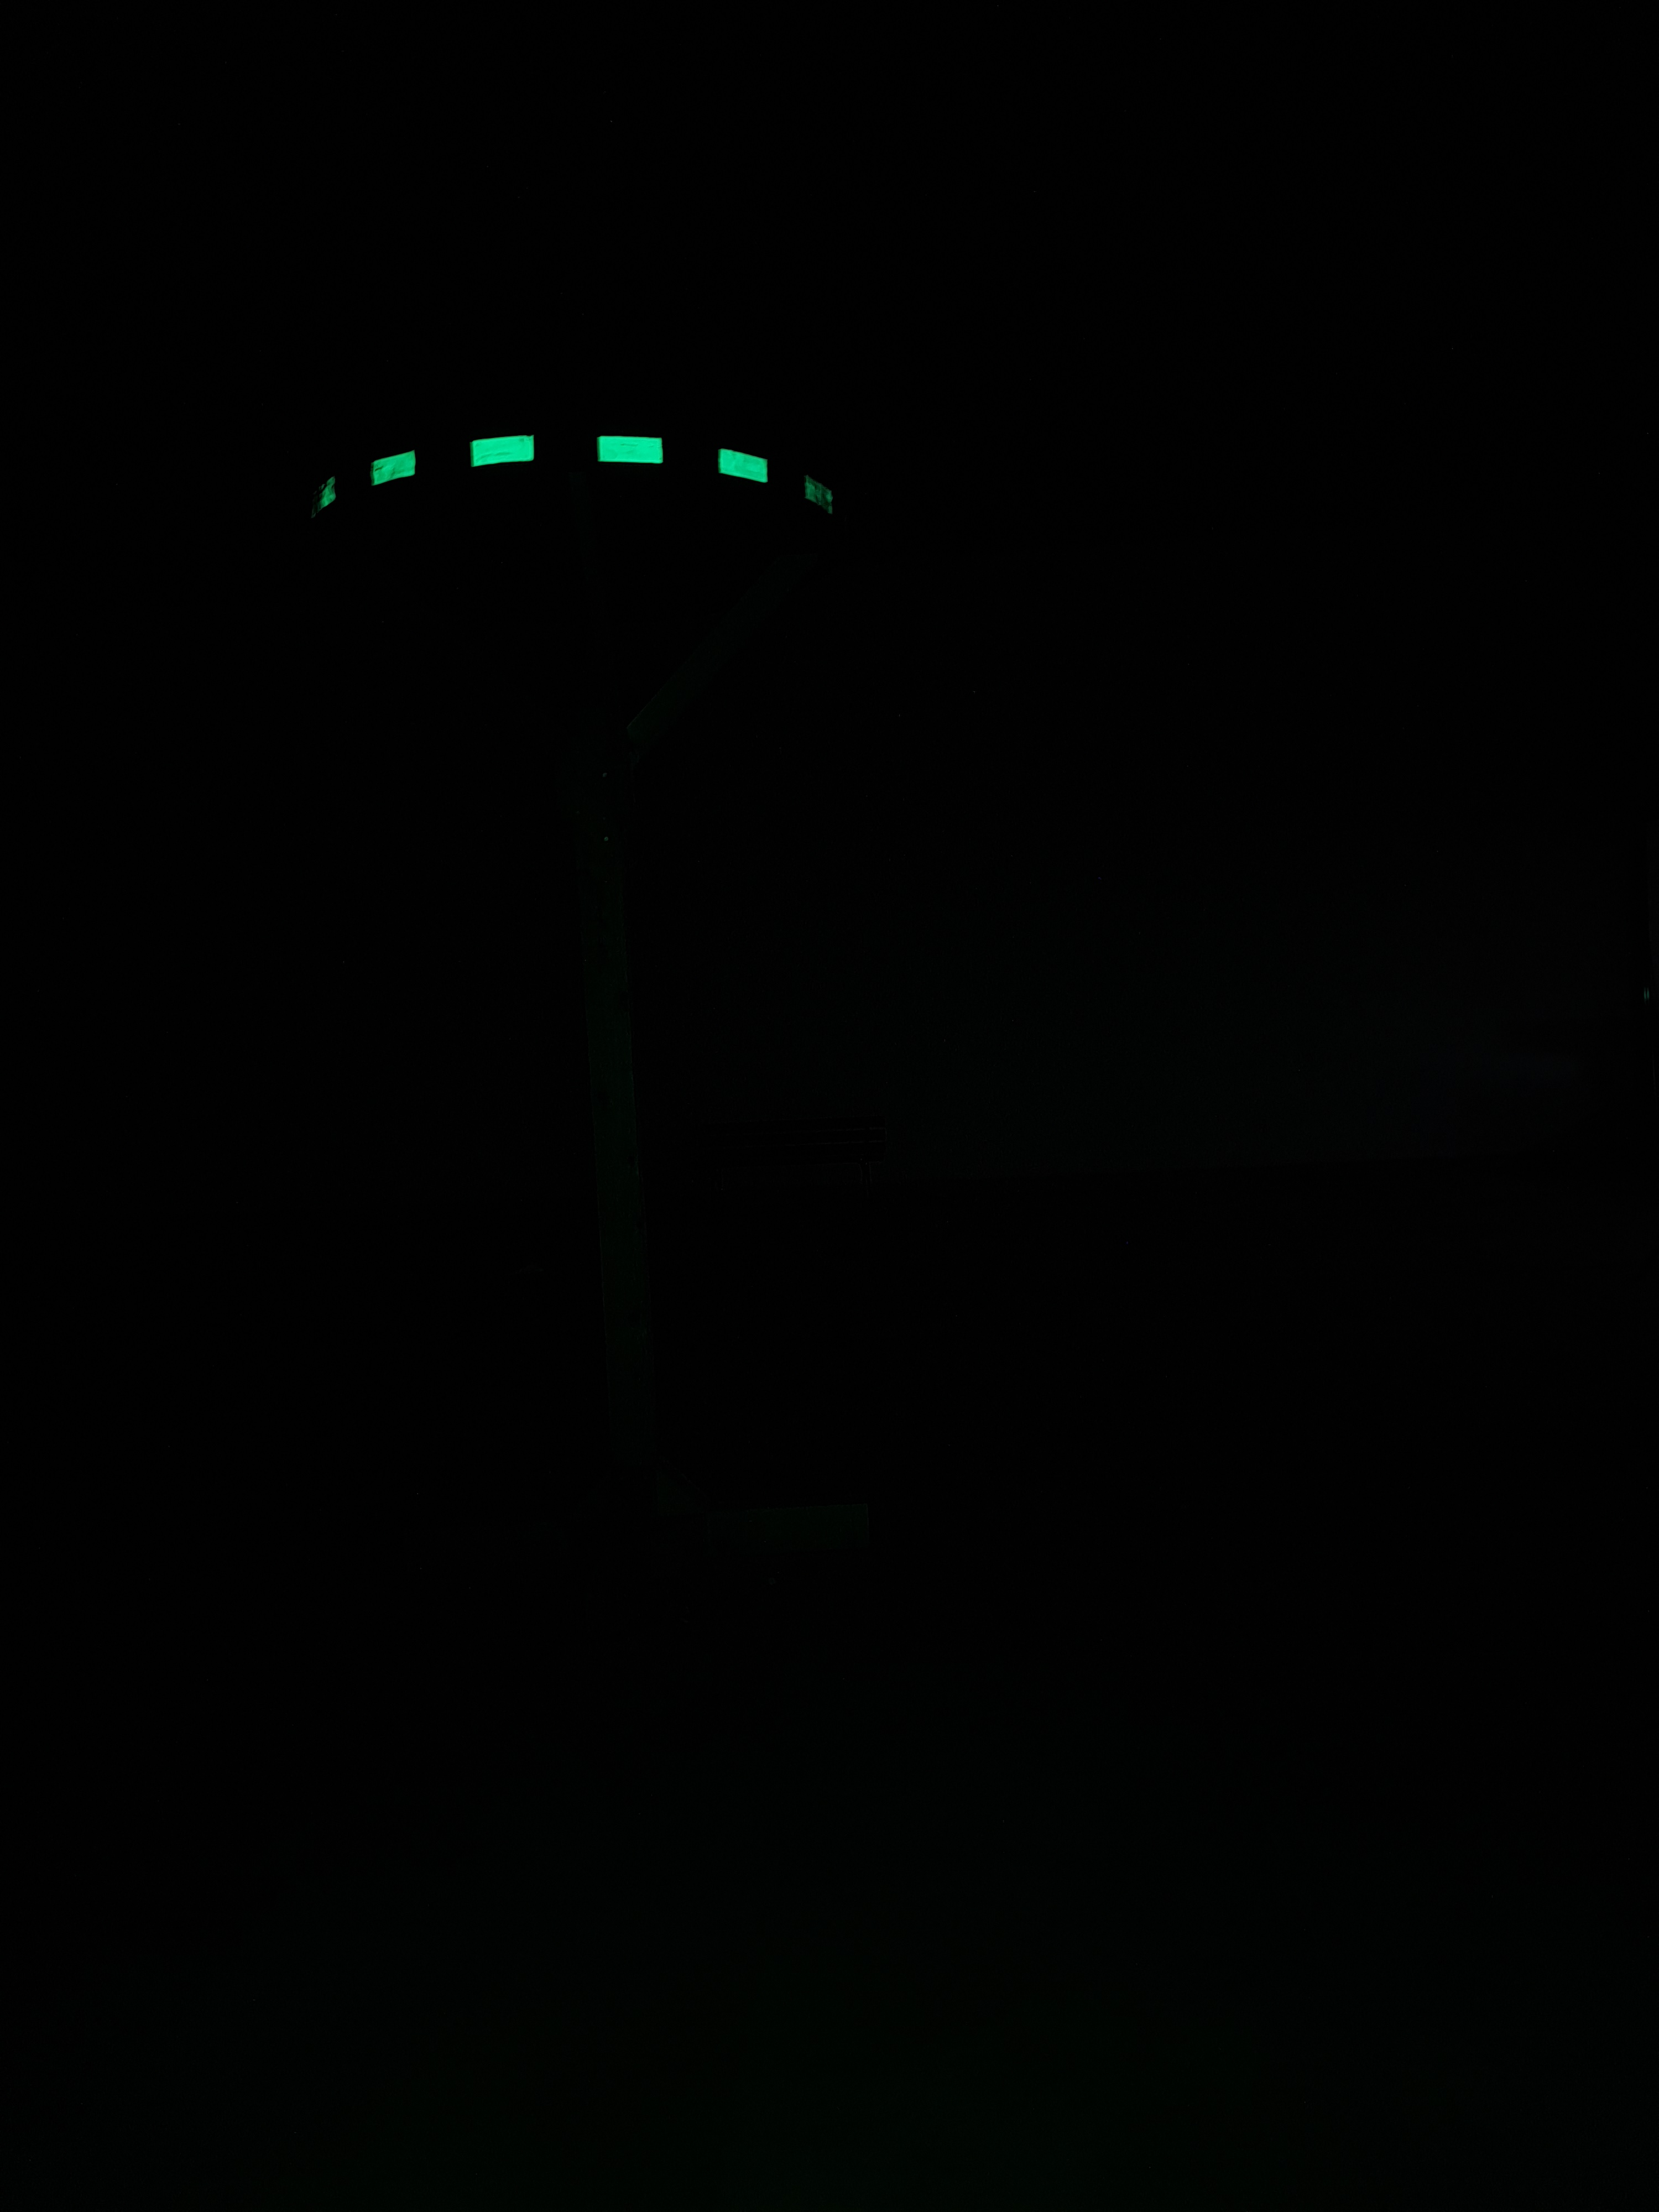hoop: (300, 425, 840, 535)
